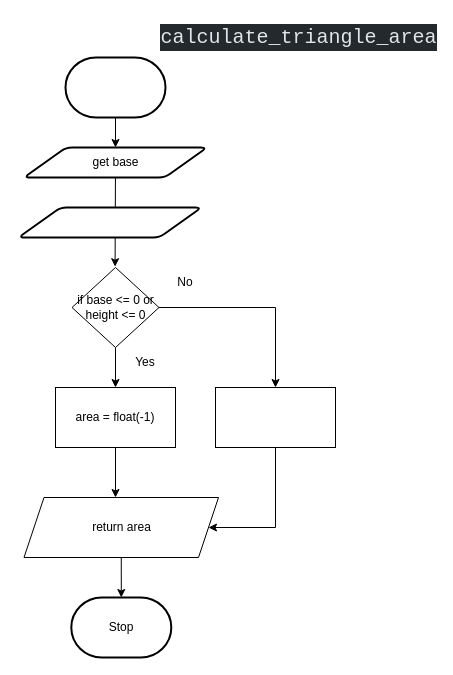
The diagram is 453 pixels wide and 675 high, and some of its shapes have lost their labels. Each missing label, with the box of its shape:
area = float((base * height) / 2): (214, 386, 336, 448)
get height: (17, 206, 202, 238)
Start: (64, 56, 166, 118)
